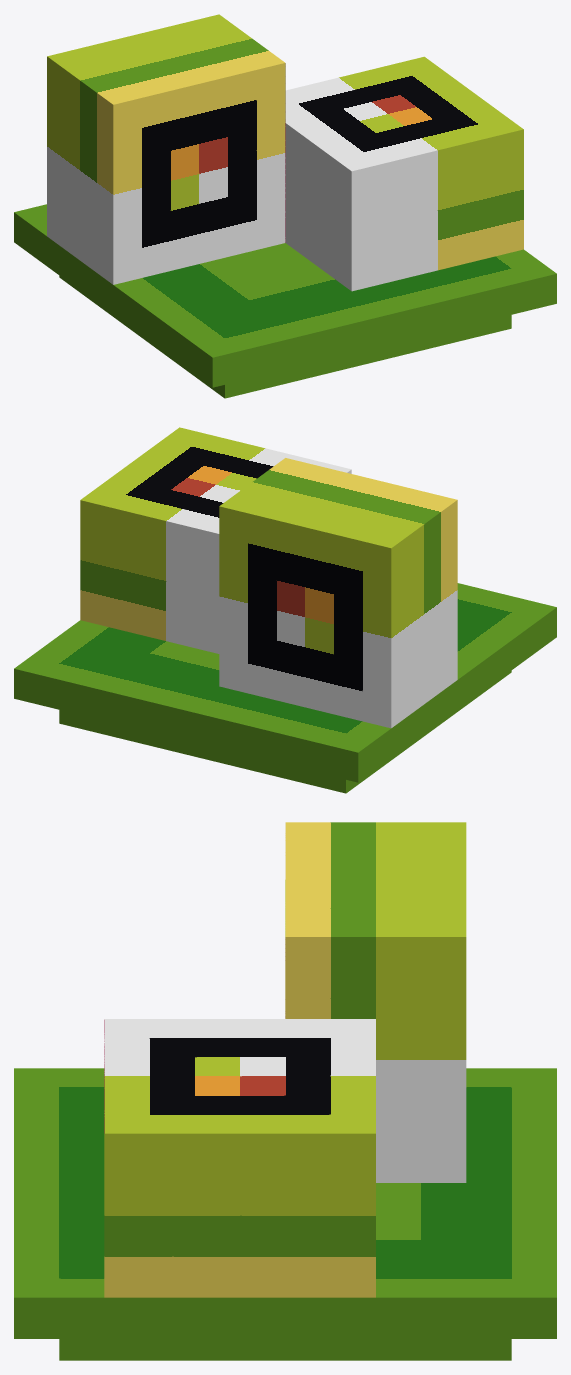
The model's file is PrefabBuena1.fbx.
The picture shows the model from 3 angles, top to bottom: view 1: azimuth 30°, elevation 25°; view 2: azimuth 150°, elevation 25°; view 3: azimuth 270°, elevation 25°; orthographic projection. The views are drawn at different scales.
Parts seen in each view (by area): view 1: ComidaBuena1; view 2: ComidaBuena1; view 3: ComidaBuena1.
Part boxes in pixels (left/top/right/bottom): ComidaBuena1: left=14, top=14, right=556, bottom=398; ComidaBuena1: left=14, top=427, right=556, bottom=793; ComidaBuena1: left=14, top=822, right=556, bottom=1360.
Size of the model in its own units: 1.2 by 1.2 by 0.8.
